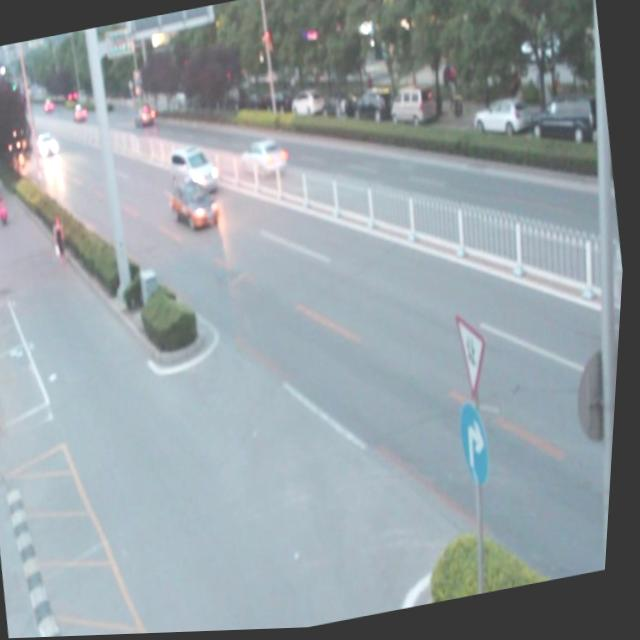car: (170, 178, 224, 235), (169, 140, 222, 198), (238, 136, 291, 182), (133, 102, 156, 125)
